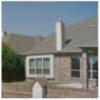chimneys: (54, 19, 65, 50)
